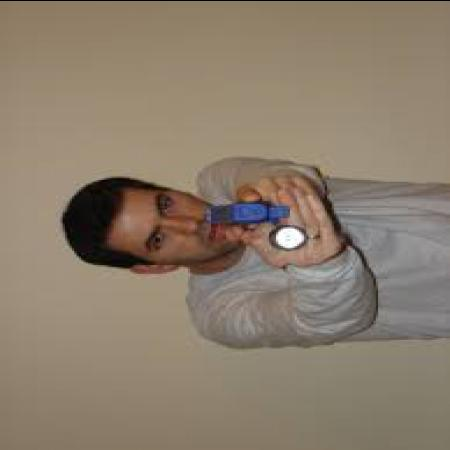Pistol: (199, 194, 288, 228)
